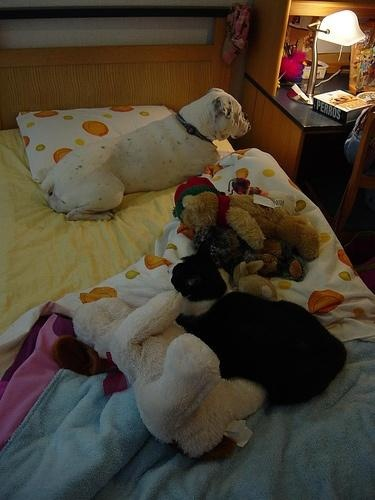dog: (39, 86, 256, 215)
